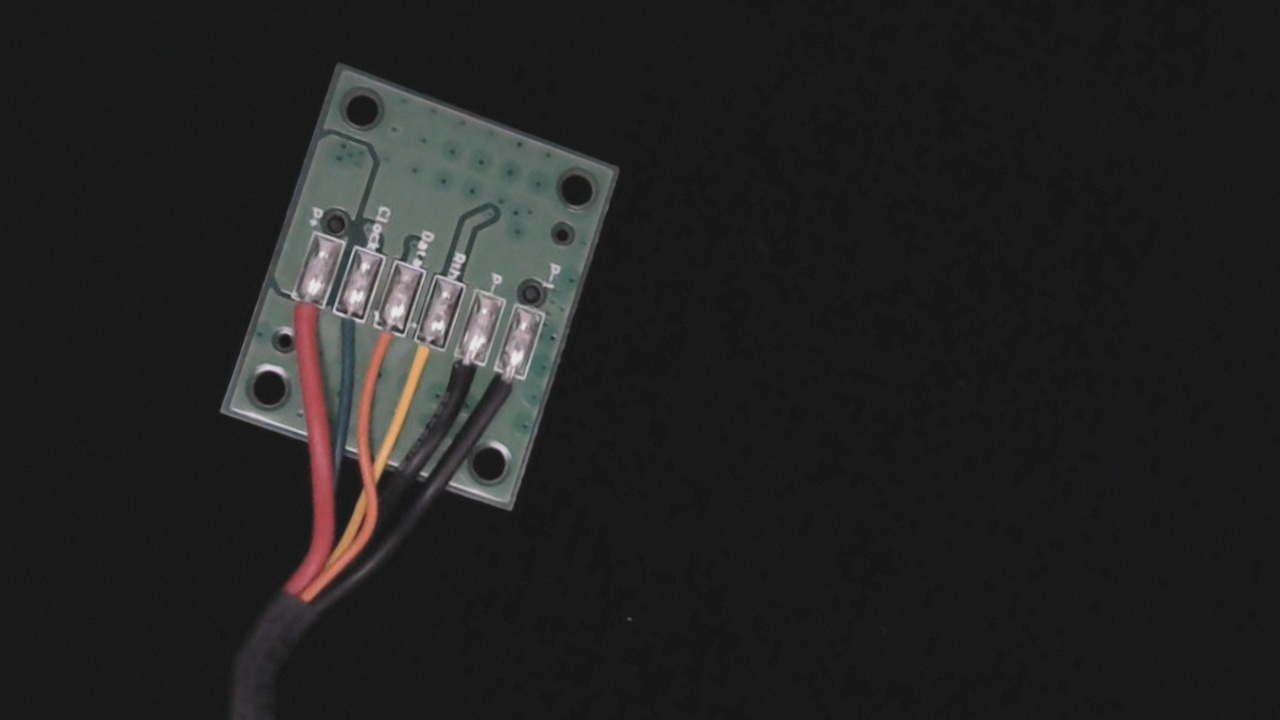Black: (436, 336, 488, 413)
Black1: (479, 352, 530, 425)
Green: (318, 294, 372, 369)
Orange: (355, 307, 411, 384)
Red: (276, 281, 329, 360)
Yellow: (394, 320, 450, 406)
